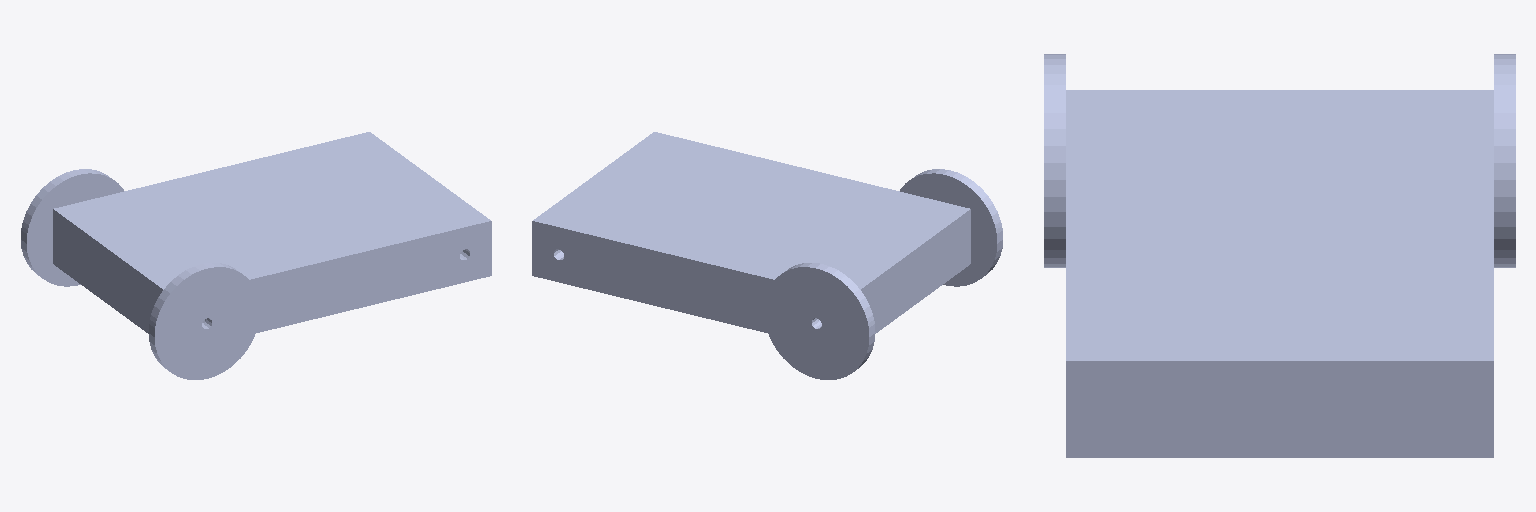
URDF robot description (my_robot):
<?xml version="1.0" encoding="utf-8"?>
<!-- This URDF was automatically created by SolidWorks to URDF Exporter! Originally created by [author] ([email redacted]) 
     Commit Version: 1.6.0-1-g15f4949  Build Version: 1.6.7594.29634
     For more information, please see http://wiki.ros.org/sw_urdf_exporter -->
<robot
  name="my_robot">
  <link
    name="base_link">
    <inertial>
      <origin
        xyz="-0.001672 -1.1716E-17 0.050348"
        rpy="0 0 0" />
      <mass
        value="5" />
      <inertia
        ixx="0.33621"
        ixy="1.0274E-16"
        ixz="-0.0012409"
        iyy="0.7179"
        iyz="1.369E-17"
        izz="1.0147" />
    </inertial>
    <visual>
      <origin
        xyz="0 0 0"
        rpy="0 0 0" />
      <geometry>
        <mesh
          filename="package://auto_test/meshes/base_link.STL" />
      </geometry>
      <material
        name="">
        <color
          rgba="0.79216 0.81961 0.93333 1" />
      </material>
    </visual>
    <collision>
      <origin
        xyz="0 0 0"
        rpy="0 0 0" />
      <geometry>
        <mesh
          filename="package://auto_test/meshes/base_link.STL" />
      </geometry>
    </collision>
  </link>
  <link
    name="Left_Link">
    <inertial>
      <origin
        xyz="-0.01 0 -5.5511E-17"
        rpy="0 0 0" />
      <mass
        value="0.62204" />
      <inertia
        ixx="0.0031413"
        ixy="4.4128E-20"
        ixz="1.7802E-20"
        iyy="0.0015914"
        iyz="1.3553E-19"
        izz="0.0015914" />
    </inertial>
    <visual>
      <origin
        xyz="0 0 0"
        rpy="0 0 0" />
      <geometry>
        <mesh
          filename="package://auto_test/meshes/L_Link.STL" />
      </geometry>
      <material
        name="">
        <color
          rgba="0.79216 0.81961 0.93333 1" />
      </material>
    </visual>
    <collision>
      <origin
        xyz="0 0 0"
        rpy="0 0 0" />
      <geometry>
        <mesh
          filename="package://auto_test/meshes/L_Link.STL" />
      </geometry>
    </collision>
  </link>
  <joint
    name="Left_Joint"
    type="continuous">
    <origin
      xyz="-0.25 -0.2 0.05"
      rpy="1.7983 0 1.5708" />
    <parent
      link="base_link" />
    <child
      link="Left_Link" />
    <axis
      xyz="1 0 0" />
  </joint>
  <link
    name="Right_Link">
    <inertial>
      <origin
        xyz="0.01 0 -5.5511E-17"
        rpy="0 0 0" />
      <mass
        value="0.62204" />
      <inertia
        ixx="0.0031413"
        ixy="3.9891E-20"
        ixz="9.4367E-21"
        iyy="0.0015914"
        iyz="1.3553E-19"
        izz="0.0015914" />
    </inertial>
    <visual>
      <origin
        xyz="0 0 0"
        rpy="0 0 0" />
      <geometry>
        <mesh
          filename="package://auto_test/meshes/R_Link.STL" />
      </geometry>
      <material
        name="">
        <color
          rgba="0.79216 0.81961 0.93333 1" />
      </material>
    </visual>
    <collision>
      <origin
        xyz="0 0 0"
        rpy="0 0 0" />
      <geometry>
        <mesh
          filename="package://auto_test/meshes/R_Link.STL" />
      </geometry>
    </collision>
  </link>
  <joint
    name="Right_Joint"
    type="continuous">
    <origin
      xyz="-0.25 0.2 0.05"
      rpy="1.7983 0 1.5708" />
    <parent
      link="base_link" />
    <child
      link="Right_Link" />
    <axis
      xyz="1 0 0" />
  </joint>
  <link
    name="Castor_Link">
    <inertial>
      <origin
        xyz="7.043E-16 -7.3552E-16 5.2736E-16"
        rpy="0 0 0" />
      <mass
        value="0.5236" />
      <inertia
        ixx="0.0005236"
        ixy="-1.3553E-20"
        ixz="0"
        iyy="0.0005236"
        iyz="2.7105E-20"
        izz="0.0005236" />
    </inertial>
    <visual>
      <origin
        xyz="0 0 0"
        rpy="0 0 0" />
      <geometry>
        <mesh
          filename="package://auto_test/meshes/Castor_Link.STL" />
      </geometry>
      <material
        name="">
        <color
          rgba="0.79216 0.81961 0.93333 1" />
      </material>
    </visual>
    <collision>
      <origin
        xyz="0 0 0"
        rpy="0 0 0" />
      <geometry>
        <mesh
          filename="package://auto_test/meshes/Castor_Link.STL" />
      </geometry>
    </collision>
  </link>
  <joint
    name="Castor_Joint"
    type="continuous">
    <origin
      xyz="0.15 0 0"
      rpy="2.4146 -0.79692 -1.7817" />
    <parent
      link="base_link" />
    <child
      link="Castor_Link" />
    <axis
      xyz="0.68342 -0.62124 0.3834" />
    <dynamics
      damping="0"
      friction="0" />
  </joint>

  <transmission name="left_wheel_trans">
    <type>transmission_interface/SimpleTransmission</type>
    <joint name="Left_Joint">
      <hardwareInterface>hardware_interface/VelocityJointInterface</hardwareInterface>
    </joint>
    <actuator name="left_wheel_motor">
      <hardwareInterface>hardware_interface/VelocityJointInterface</hardwareInterface>
      <mechanicalReduction>1</mechanicalReduction>
    </actuator>
  </transmission>
  <transmission name="right_wheel_trans">
    <type>transmission_interface/SimpleTransmission</type>
    <joint name="Right_Joint">
      <hardwareInterface>hardware_interface/VelocityJointInterface</hardwareInterface>
    </joint>
    <actuator name="right_wheel_motor">
      <hardwareInterface>hardware_interface/VelocityJointInterface</hardwareInterface>
      <mechanicalReduction>1</mechanicalReduction>
    </actuator>
  </transmission>

  <gazebo>
    <plugin name="gazebo_ros_control" filename="libgazebo_ros_contol.so">
    </plugin>
  </gazebo>
</robot>

--- Render facts (derived) ---
Views: 3 orthographic renders of the robot side by side, from view 1: azimuth 30°, elevation 25°; view 2: azimuth 150°, elevation 25°; view 3: azimuth 270°, elevation 25°.
Model my_robot with 4 links and 3 joints (3 continuous), rooted at base_link, posed every joint at zero.
Visible links, largest first — view 1: base_link, Left_Link, Right_Link; view 2: base_link, Right_Link, Left_Link; view 3: base_link, Left_Link, Right_Link.
Boxes of the visible links, x1,y1,x2,y2 form: base_link: [53, 132, 491, 333]; Left_Link: [148, 263, 259, 379]; Right_Link: [21, 169, 123, 286]; base_link: [532, 132, 970, 333]; Right_Link: [764, 263, 875, 379]; Left_Link: [900, 169, 1002, 286]; base_link: [1066, 90, 1493, 457]; Left_Link: [1044, 54, 1065, 267]; Right_Link: [1494, 54, 1515, 267].
Bounding box of the posed robot: 0.65 × 0.44 × 0.1999 m (x, y, z).
Meshes: 4 distinct files referenced, 4 mesh visuals loaded (4 binary STL).